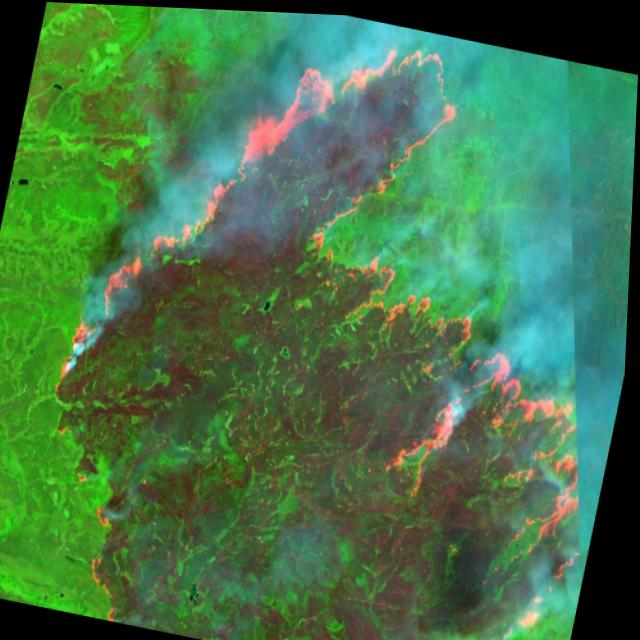fire: (11, 1, 640, 640)
